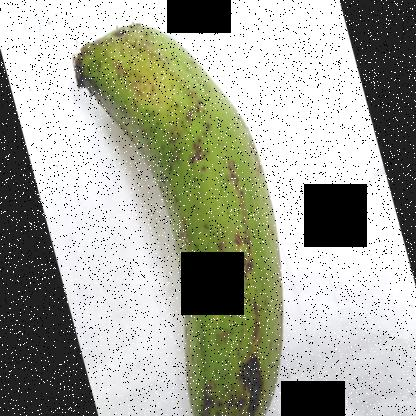rotten: (213, 327, 268, 415)
unripe: (70, 3, 305, 415)
